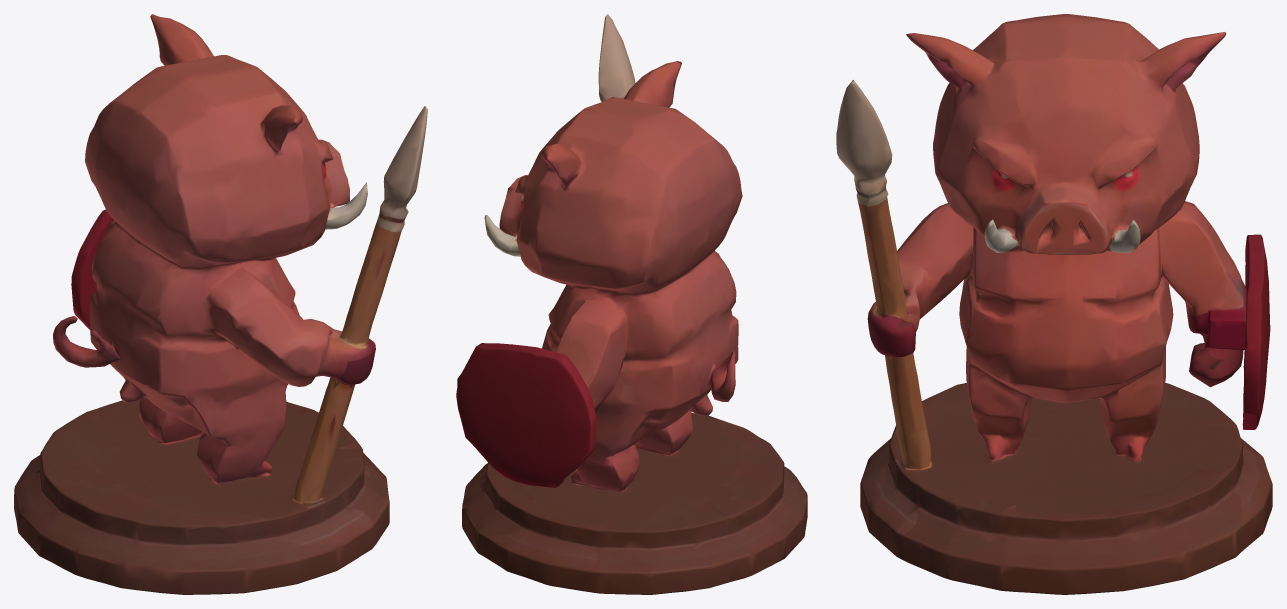
Rendered from ganon_pawn_moblin.glb.
3 renders of one model, left to right at view 1: azimuth 30°, elevation 25°; view 2: azimuth 150°, elevation 25°; view 3: azimuth 270°, elevation 25°, orthographic. The views are drawn at different scales.
Parts seen in each view (by area): view 1: tripo_node_df28b079-ca60-48c7-8e7a-4fe586f55b08; view 2: tripo_node_df28b079-ca60-48c7-8e7a-4fe586f55b08; view 3: tripo_node_df28b079-ca60-48c7-8e7a-4fe586f55b08.
Boxes of the visible parts, box(x1,y1,x2,y2) form: tripo_node_df28b079-ca60-48c7-8e7a-4fe586f55b08: box(14, 14, 427, 594); tripo_node_df28b079-ca60-48c7-8e7a-4fe586f55b08: box(456, 14, 807, 594); tripo_node_df28b079-ca60-48c7-8e7a-4fe586f55b08: box(836, 14, 1272, 594).
Size of the model in its own units: 0.7182 by 0.9501 by 0.7566.
1 material, 1 textured.
